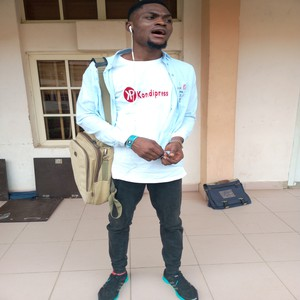Fulokoja_male_student: (114, 3, 201, 294)
